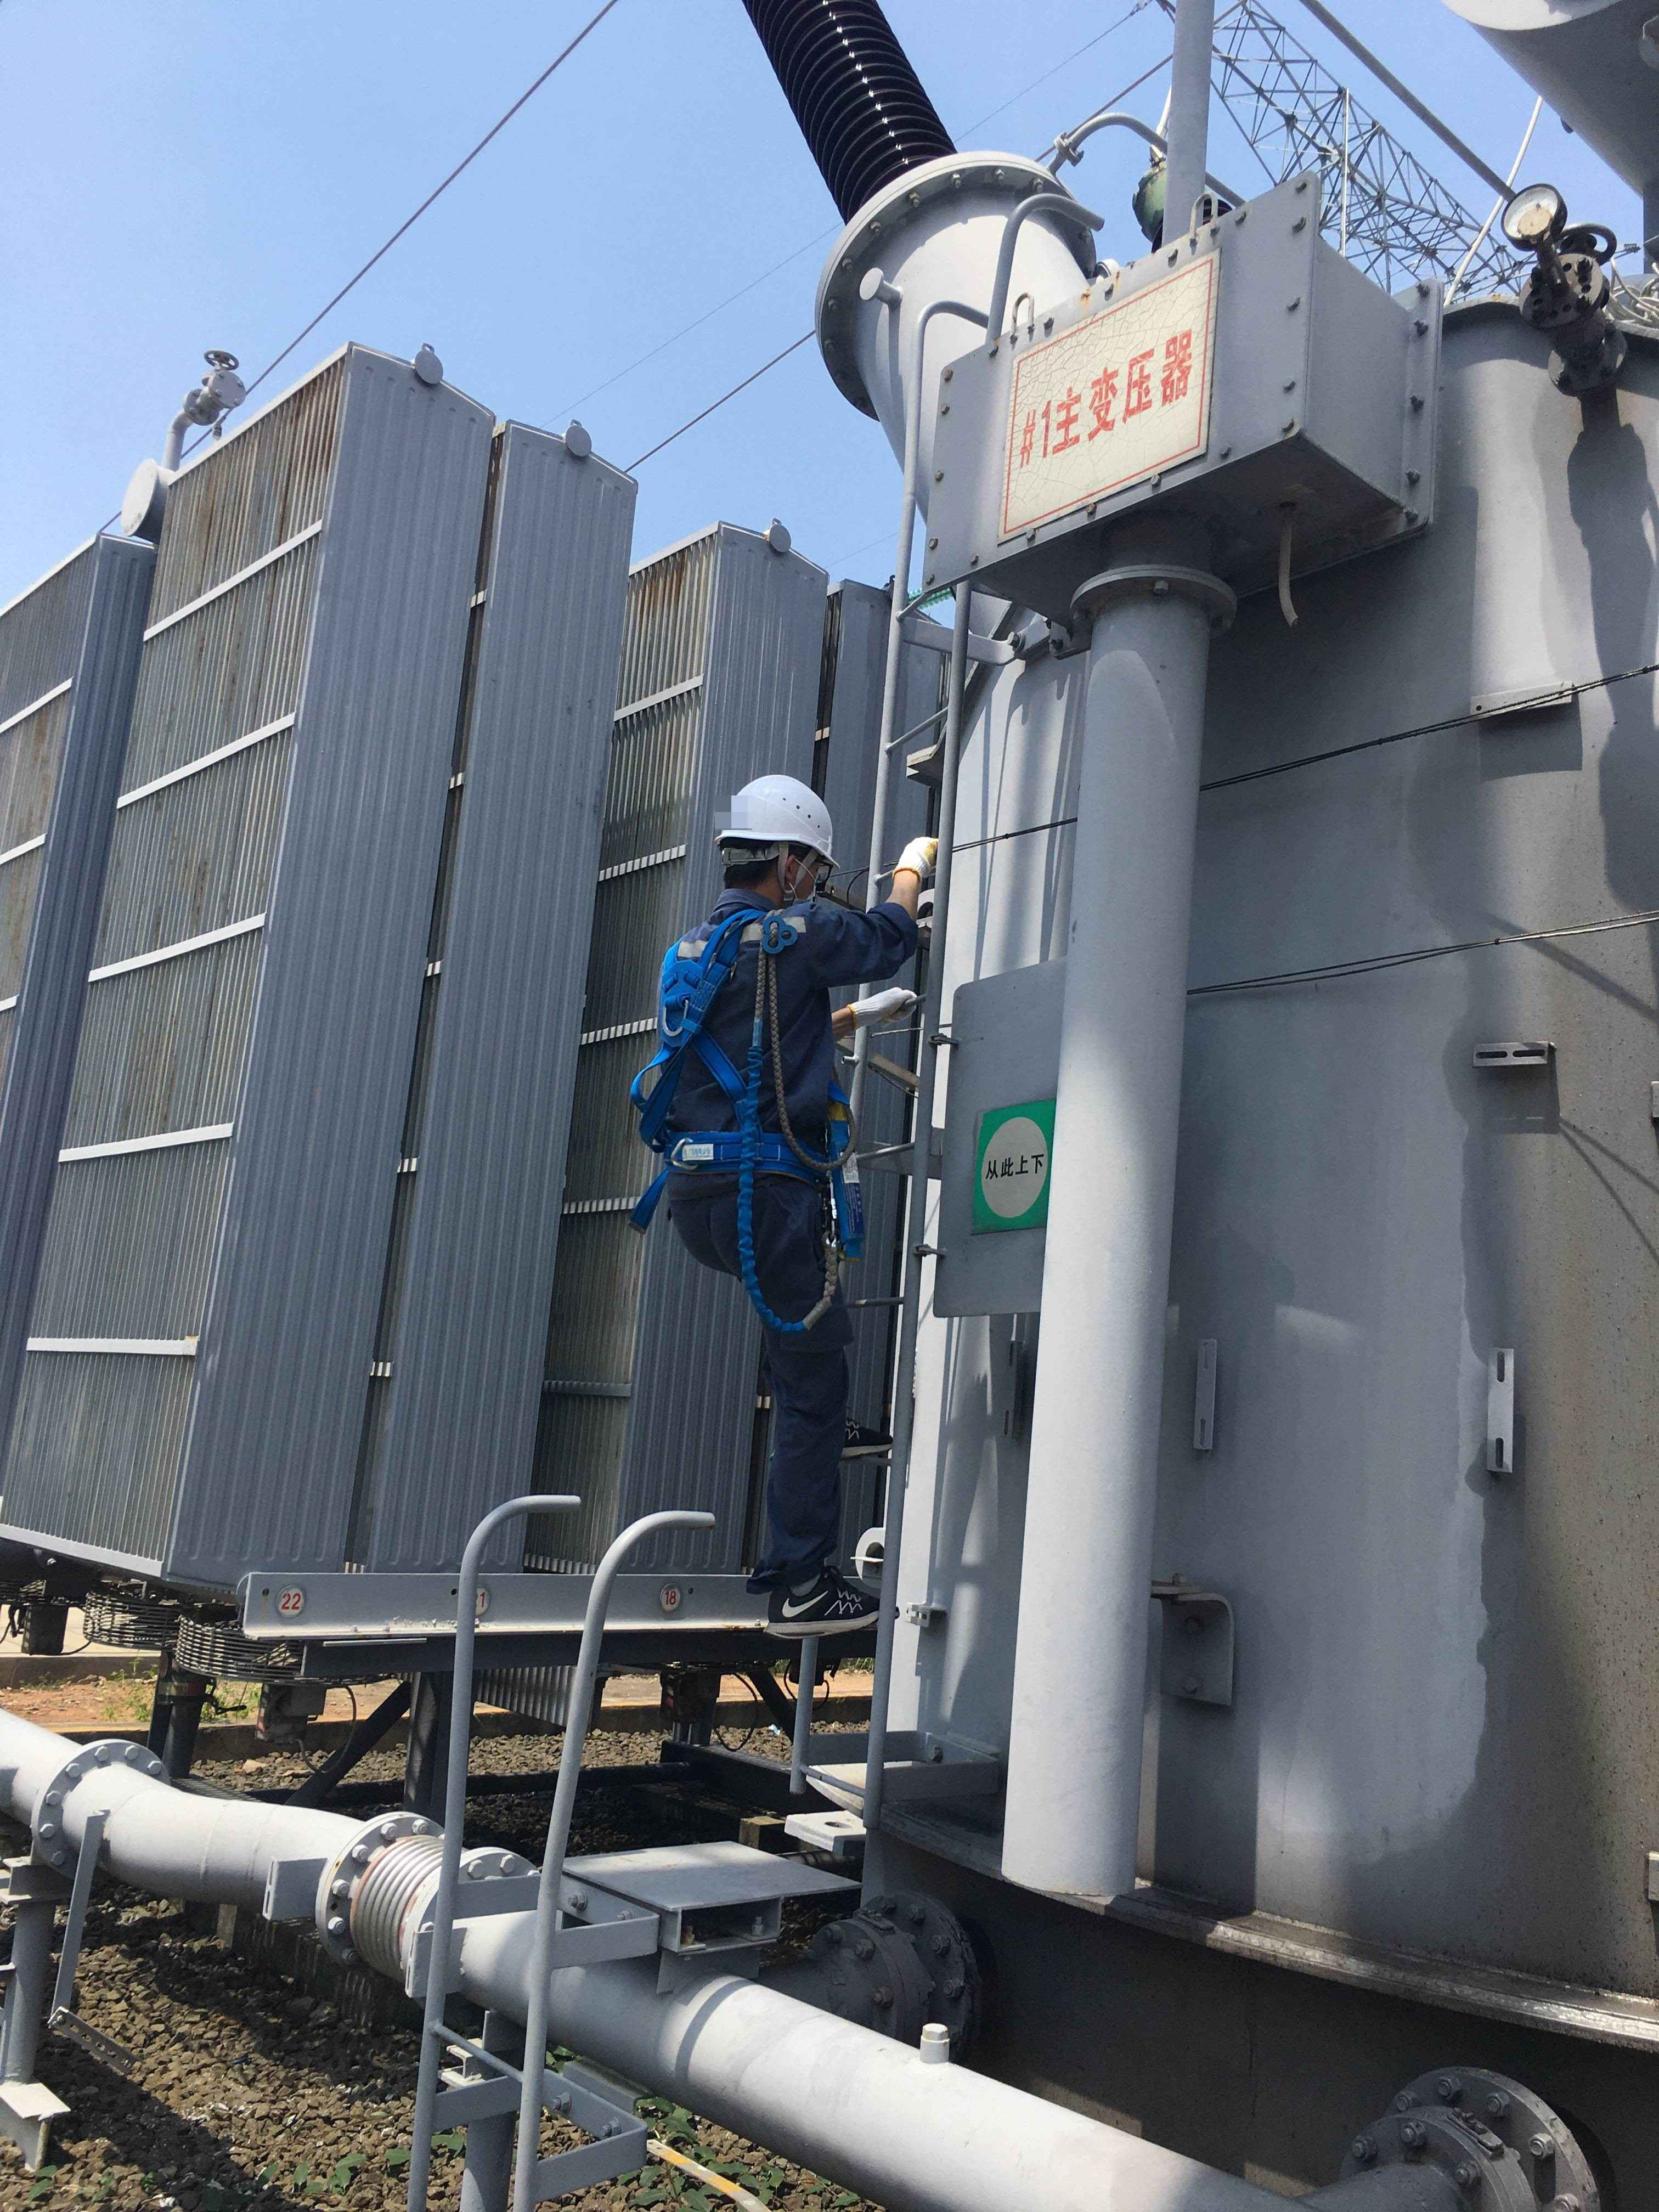downsuit: (699, 1186, 870, 1595)
upsuit: (647, 895, 915, 1162)
wrongtop: (880, 860, 934, 939)
